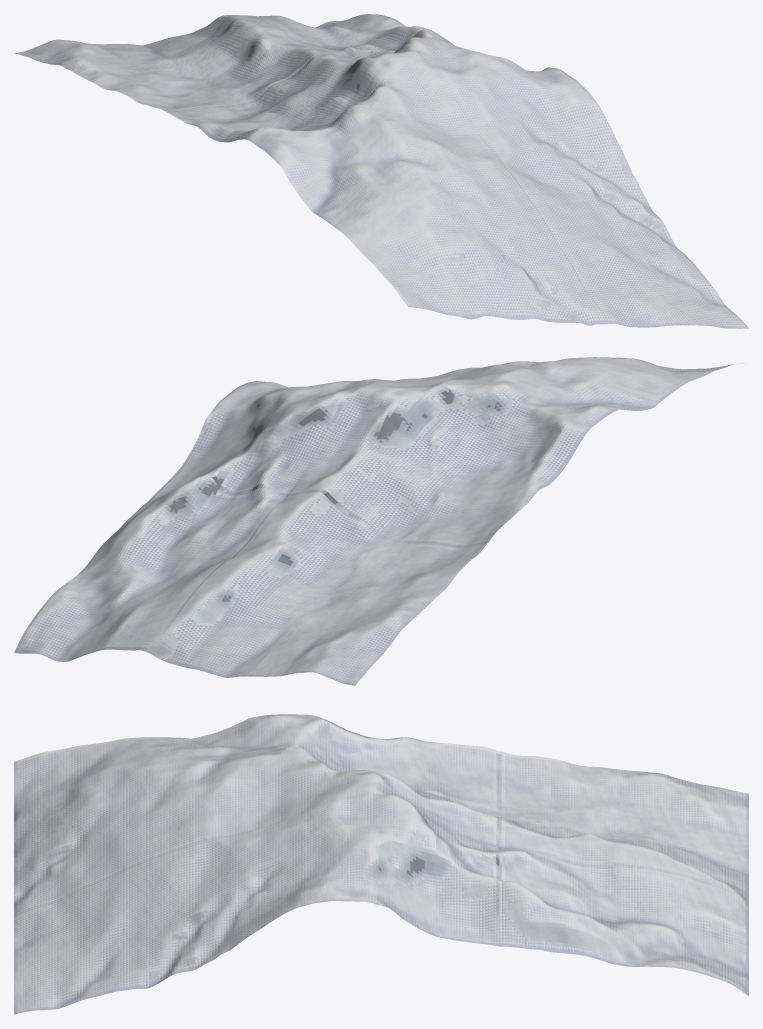
The model's file is whistler-peak.glb.
The picture shows the model from 3 angles, top to bottom: view 1: azimuth 30°, elevation 25°; view 2: azimuth 150°, elevation 25°; view 3: azimuth 270°, elevation 25°; orthographic projection. The views are drawn at different scales.
Visible parts, largest first — view 1: whistler_terrain_mesh; view 2: whistler_terrain_mesh; view 3: whistler_terrain_mesh.
Boxes of the visible parts, x1,y1,x2,y2 form: whistler_terrain_mesh: (14, 14, 748, 328); whistler_terrain_mesh: (14, 357, 745, 685); whistler_terrain_mesh: (14, 714, 748, 1014).
Size of the model in its own units: 1600 by 782 by 3200.
